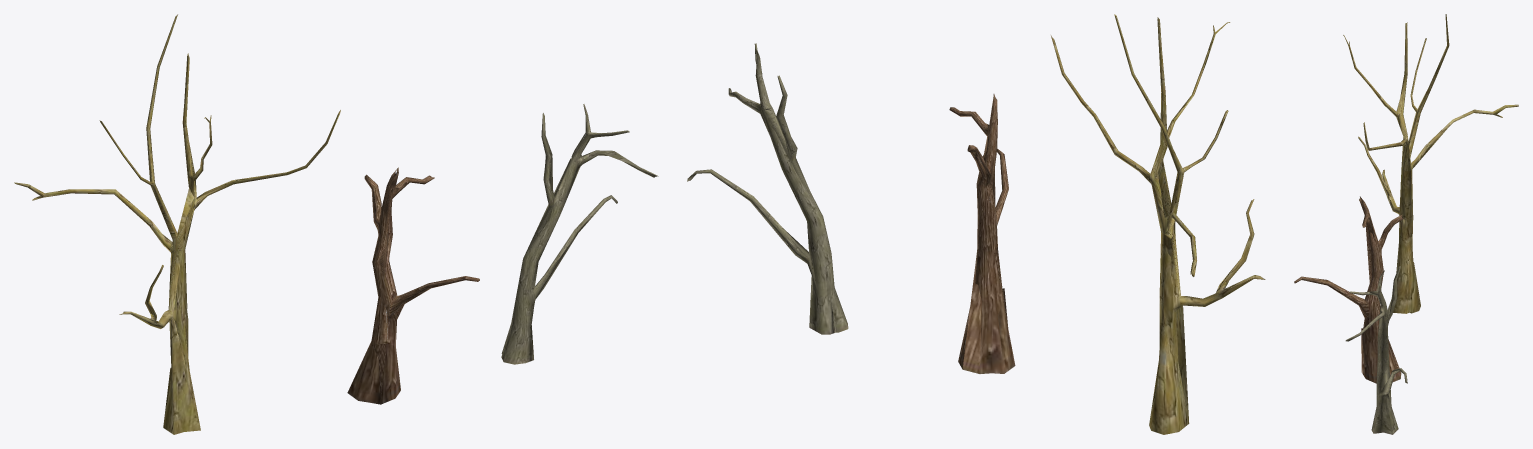
File: low-poly_trees.glb
The picture shows the model from 3 angles, left to right: view 1: azimuth 30°, elevation 25°; view 2: azimuth 150°, elevation 25°; view 3: azimuth 270°, elevation 25°; orthographic projection. The views are drawn at different scales.
Visible parts, largest first — view 1: DeadTree_1, DeadTree_3, DeadTree_2, DeadTree_1__far, DeadTree_3__far, DeadTree_2__far; view 2: DeadTree_1, DeadTree_3, DeadTree_2, DeadTree_3__far, DeadTree_1__far, DeadTree_2__far; view 3: DeadTree_1, DeadTree_3, DeadTree_2, DeadTree_3__far, DeadTree_1__far, DeadTree_2__far.
Part boxes in pixels (x1,y1,x2,y2): DeadTree_1: [14, 14, 340, 434]; DeadTree_3: [351, 167, 479, 404]; DeadTree_2: [503, 104, 658, 364]; DeadTree_1__far: [145, 22, 230, 434]; DeadTree_3__far: [347, 170, 401, 404]; DeadTree_2__far: [501, 132, 638, 361]; DeadTree_1: [1051, 14, 1265, 434]; DeadTree_3: [949, 94, 1008, 373]; DeadTree_2: [687, 43, 848, 334]; DeadTree_3__far: [955, 98, 1015, 373]; DeadTree_1__far: [1139, 19, 1264, 420]; DeadTree_2__far: [759, 73, 848, 334]; DeadTree_1: [1343, 14, 1518, 313]; DeadTree_3: [1294, 196, 1403, 383]; DeadTree_2: [1345, 266, 1407, 434]; DeadTree_3__far: [1359, 198, 1401, 378]; DeadTree_1__far: [1387, 14, 1518, 272]; DeadTree_2__far: [1362, 291, 1392, 433].
Bounding box in the file's own units: 87.66 × 61.09 × 41.
1 material, 1 textured.
